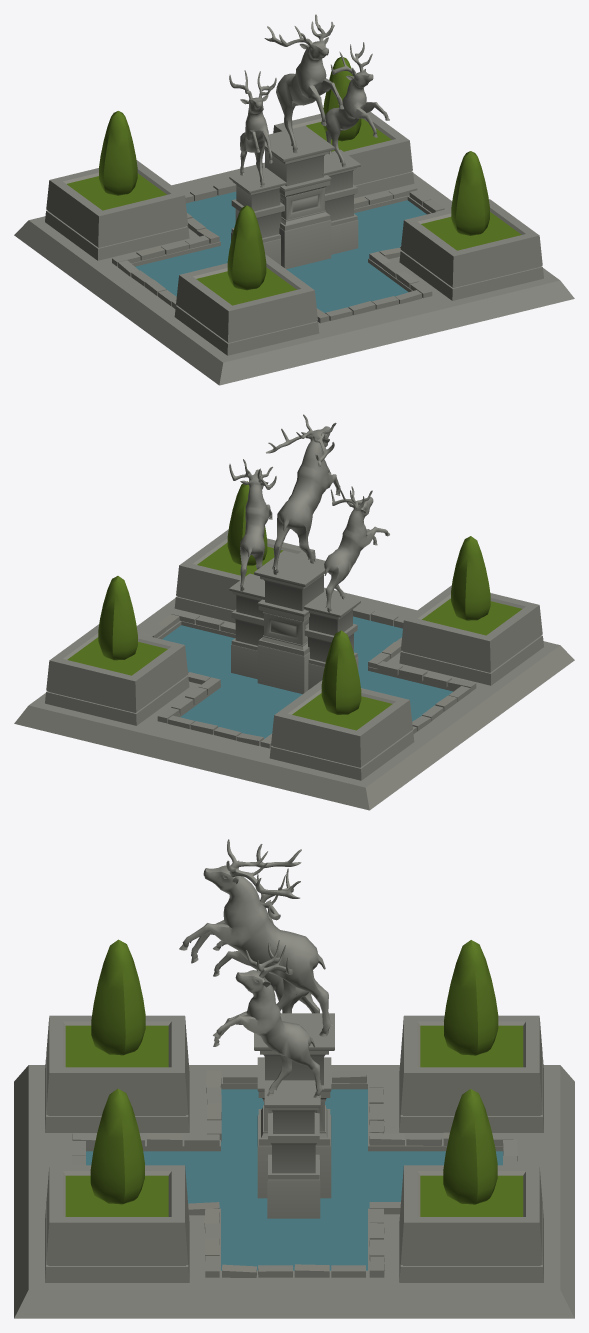
File: Holy Place.fbx
3 renders of one model, top to bottom at view 1: azimuth 30°, elevation 25°; view 2: azimuth 150°, elevation 25°; view 3: azimuth 270°, elevation 25°, orthographic. The views are drawn at different scales.
Parts seen in each view (by area): view 1: 12, 0, 15, 14, 17, 16, 20, 18, 19, 10, 2, 1; view 2: 12, 0, 15, 14, 17, 16, 20, 18, 19, 13, 1, 10; view 3: 12, 0, 14, 17, 15, 16, 20, 19, 18, 11, 13, 2 (+1 smaller).
Boxes of the visible parts, x1,y1,x2,y2 form: 12: (45, 111, 543, 355); 0: (14, 162, 574, 385); 15: (229, 125, 360, 269); 14: (135, 191, 426, 312); 17: (99, 57, 489, 290); 16: (67, 118, 521, 305); 20: (183, 14, 445, 298); 18: (240, 69, 389, 187); 19: (276, 37, 343, 153); 10: (325, 290, 421, 320); 2: (112, 235, 209, 266); 1: (118, 260, 176, 305); 12: (45, 529, 543, 780); 0: (14, 587, 574, 810); 15: (229, 550, 360, 694); 14: (162, 616, 452, 738); 17: (98, 481, 490, 714); 16: (67, 542, 521, 730); 20: (143, 414, 372, 748); 18: (240, 469, 389, 612); 19: (272, 426, 340, 574); 13: (377, 661, 476, 691); 1: (412, 686, 470, 731); 10: (353, 606, 405, 628); 12: (45, 1015, 543, 1282); 0: (14, 1065, 574, 1318); 14: (86, 1089, 503, 1270); 17: (90, 939, 498, 1204); 15: (254, 1013, 334, 1218); 16: (65, 1025, 523, 1216); 20: (188, 839, 517, 1277); 19: (179, 860, 332, 1036); 18: (213, 900, 323, 1098); 11: (72, 1133, 219, 1148); 13: (206, 1070, 221, 1141); 2: (369, 1071, 384, 1133).
Size of the model in its own units: 186 by 128 by 186.
